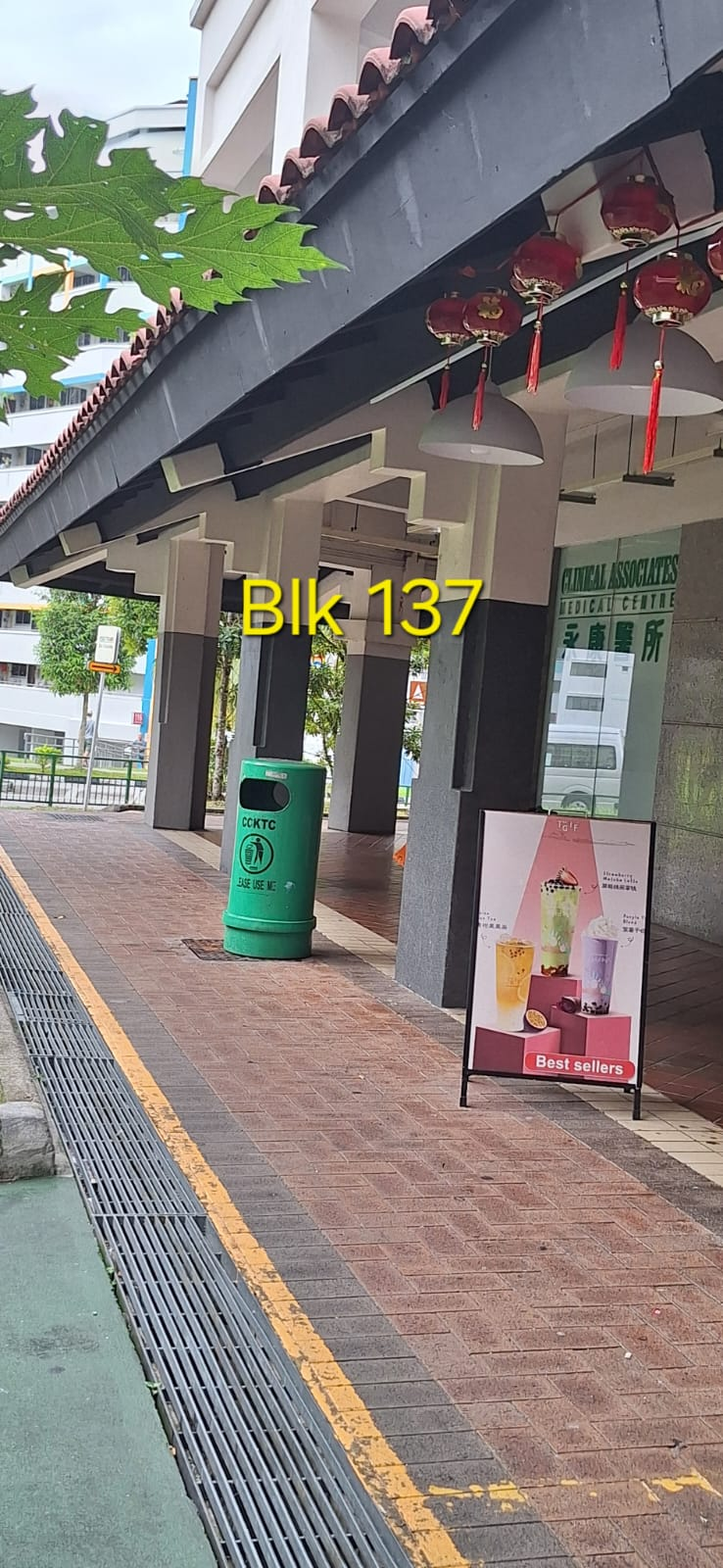bin_empty: (223, 759, 324, 958)
